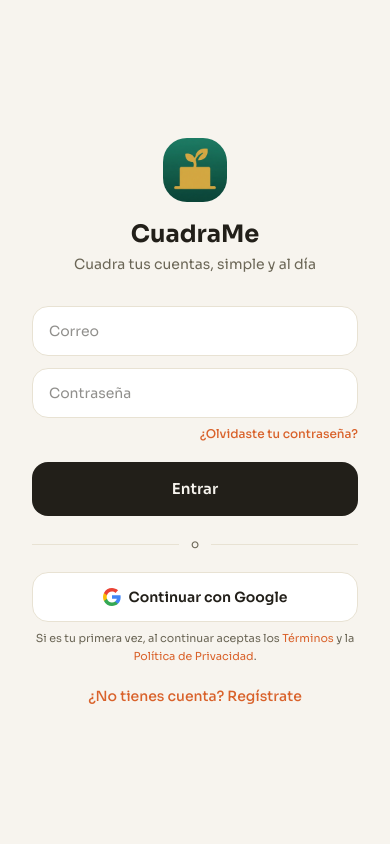
Login › el registro exige aceptar los términos
Step 1. Click the button "¿No tienes cuenta? Regístrate" → (195, 696), box [32,686,358,706]
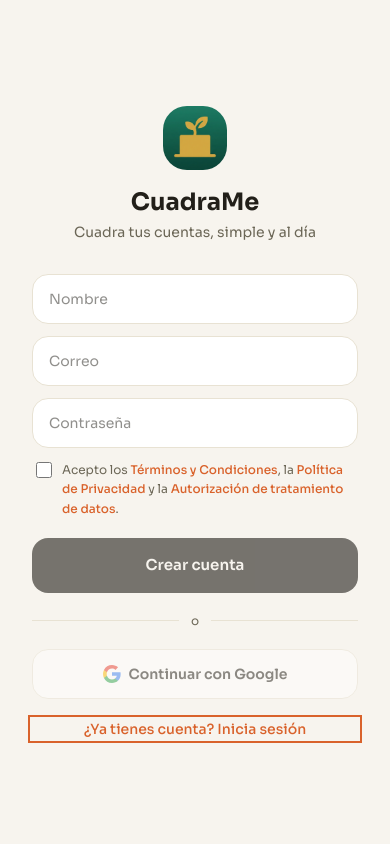
Expected: the button "Crear cuenta" is disabled, [32,538,358,592]
Step 2. Click the checkbox → (44, 470), box [36,462,52,478]
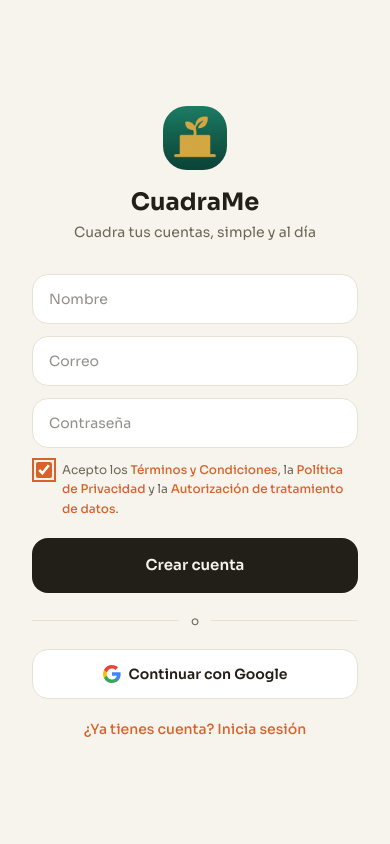
Expected: the button "Crear cuenta" is enabled, [32,538,358,592]
